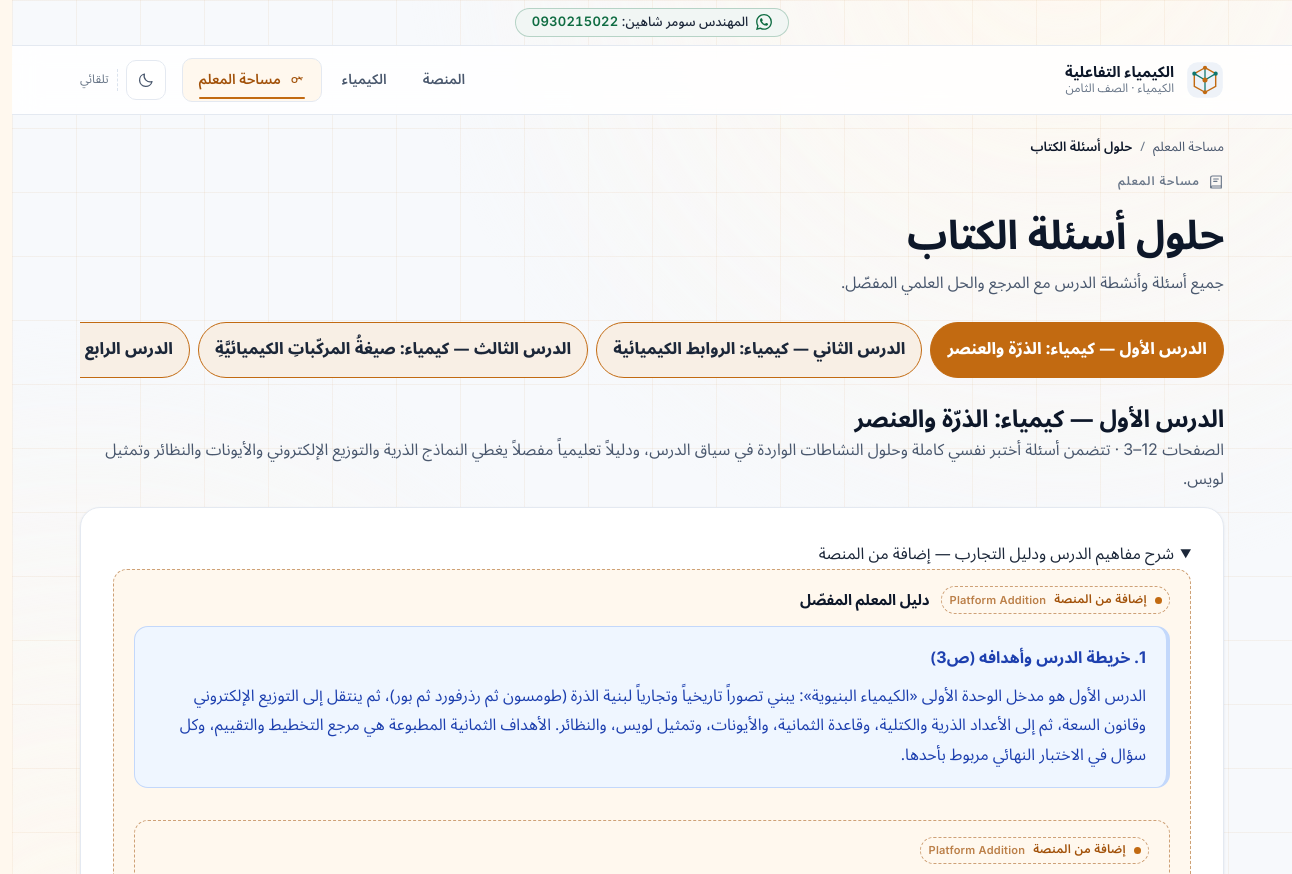
teacher area — lesson 3 tab › shows lesson 3 book solutions with page references after switching tabs
This screenshot has width=1292, height=874.
Click the link "الدرس الثالث — كيمياء: صيغةُ المركّباتِ الكيميائيَّةِ".
click(393, 350)  # box [198,322,588,378]
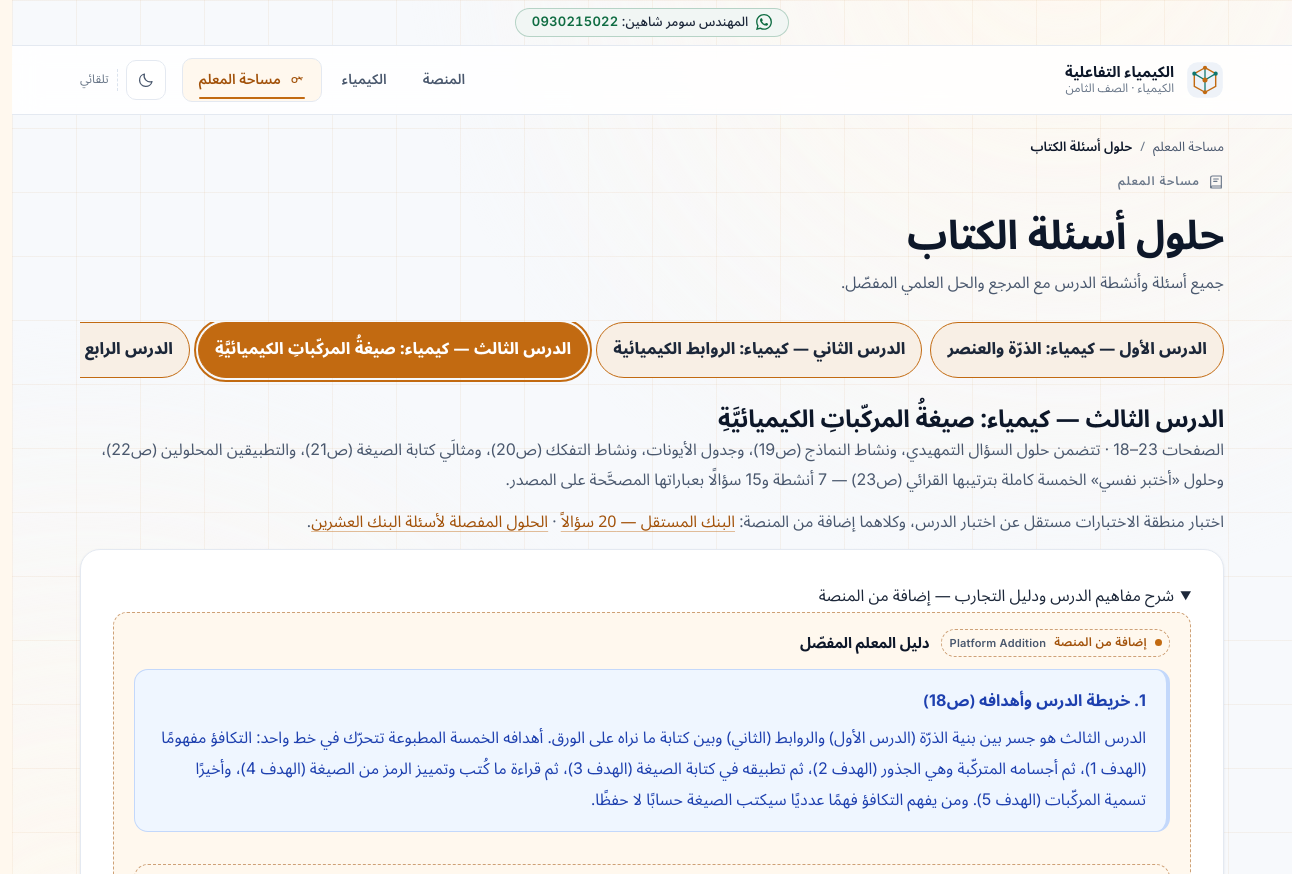
Now the heading "الدرس الثالث — كيمياء: صيغةُ المركّباتِ الكيميائيَّةِ" is shown, box [718,394,1224,445]
